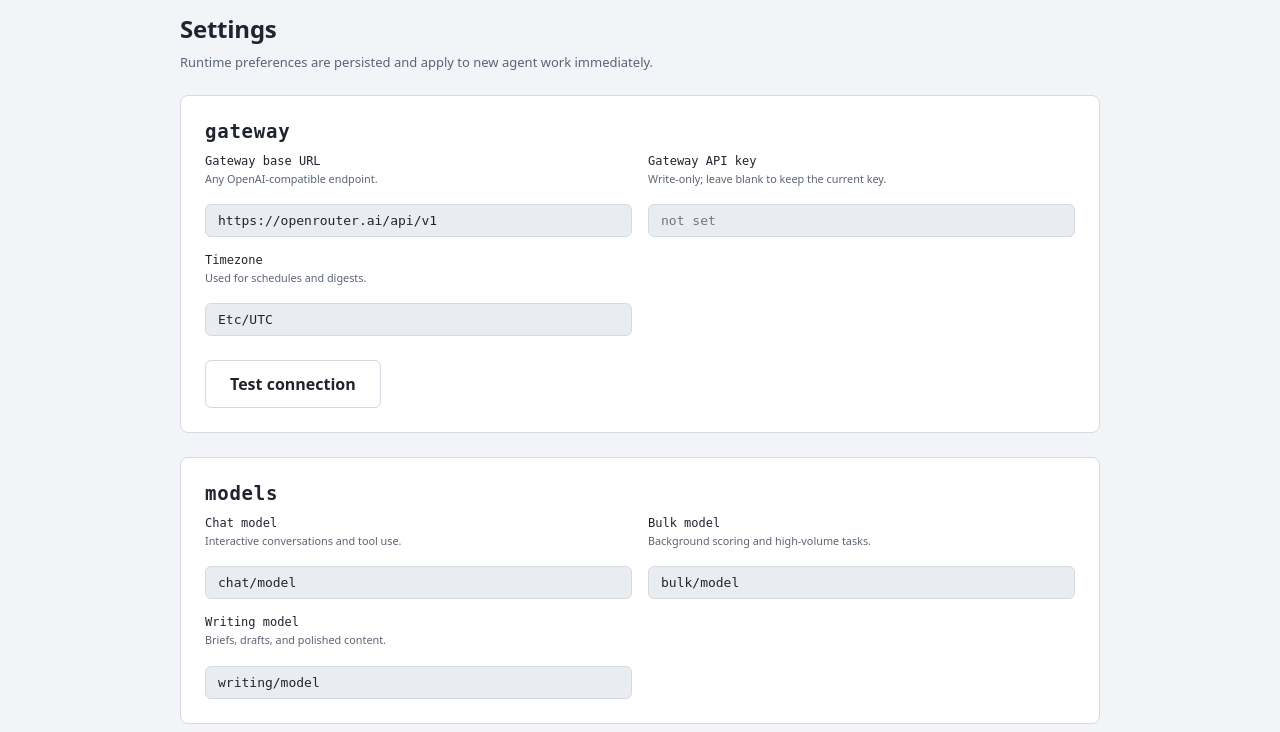
Test: test connection reports gateway result inline
Expected: the field labelled "Gateway base URL" is shown, [205,204,632,237]
Click the button "Test connection" at (293, 384), box [205,360,381,408]
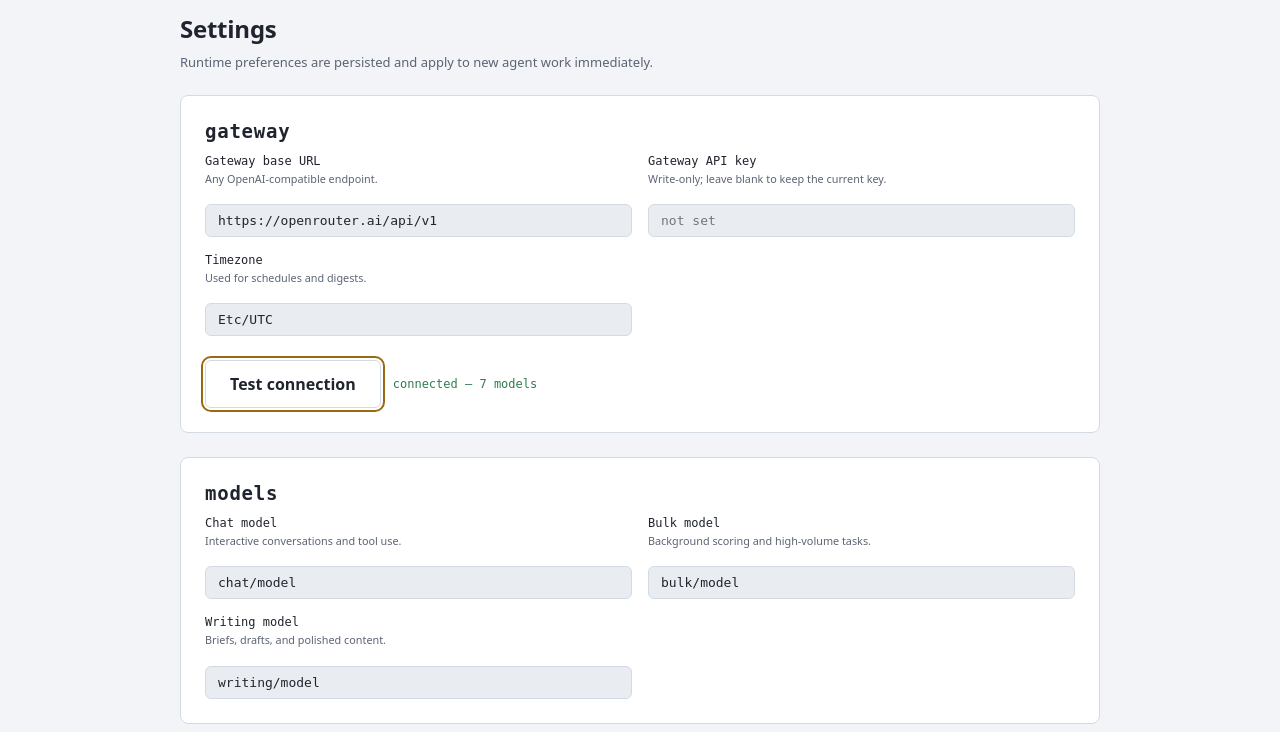
Expected: the text "connected — 7 models" is shown, [393,377,537,391]
